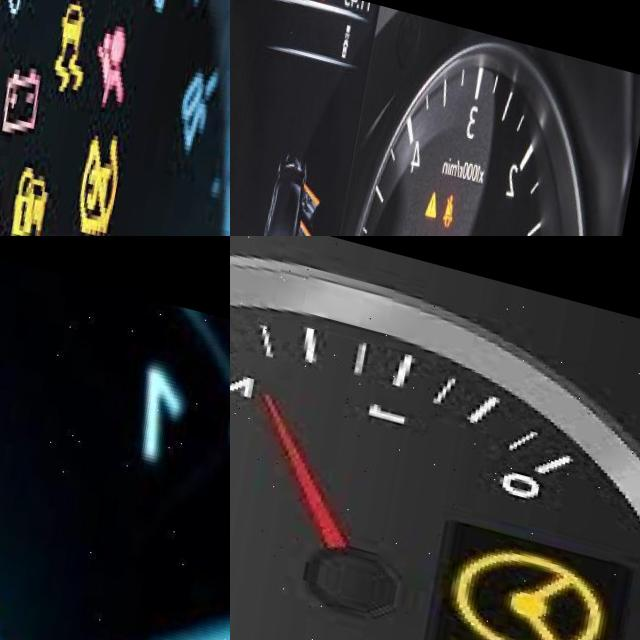Electronic Power Steering Warning: (451, 509, 625, 640)
Seat Belt: (0, 158, 15, 236), (447, 167, 468, 204)
